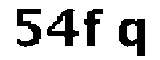4: (47, 6, 80, 48)
5: (9, 3, 44, 51)
f: (82, 5, 106, 52)
q: (116, 15, 151, 60)
